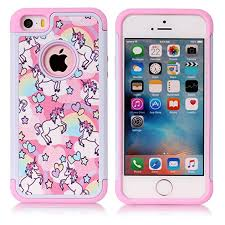iphone: (115, 7, 213, 204)
iphone5: (115, 7, 213, 204)
